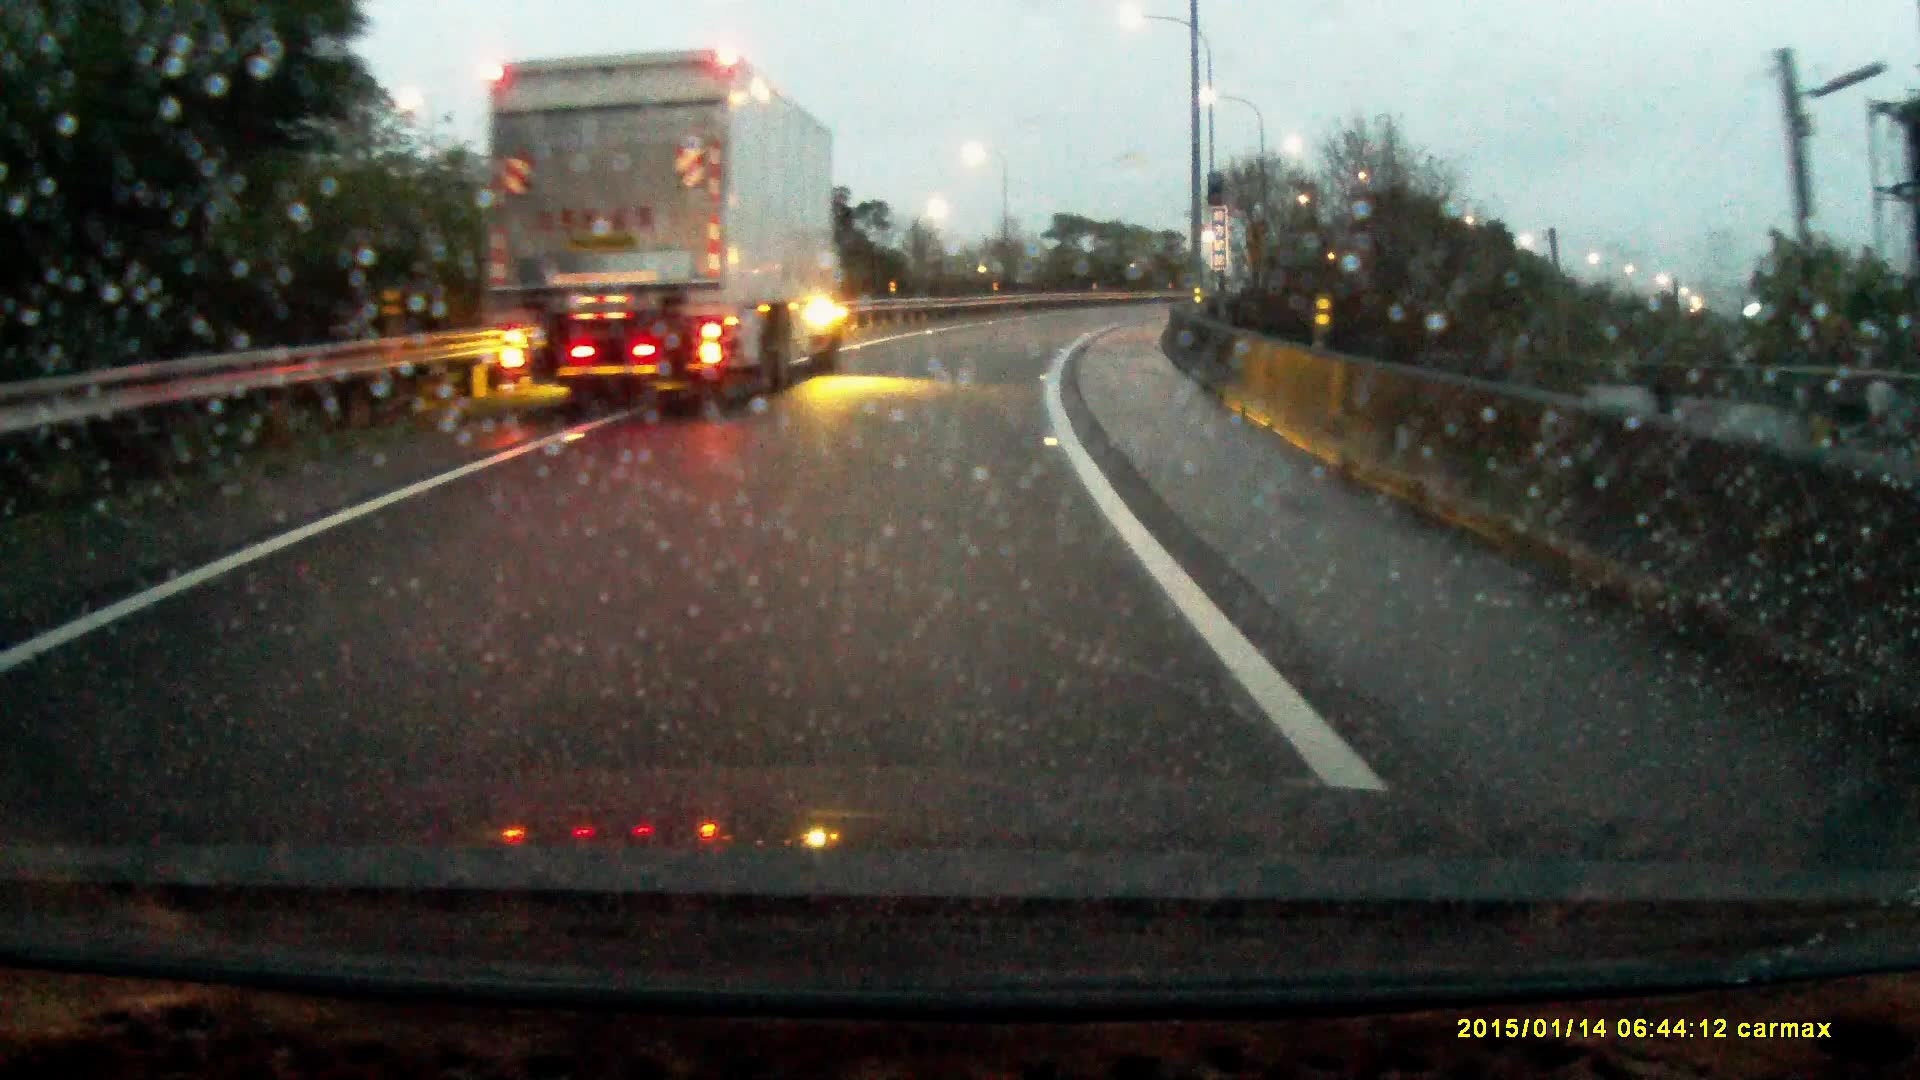vehicle: (477, 47, 845, 401)
